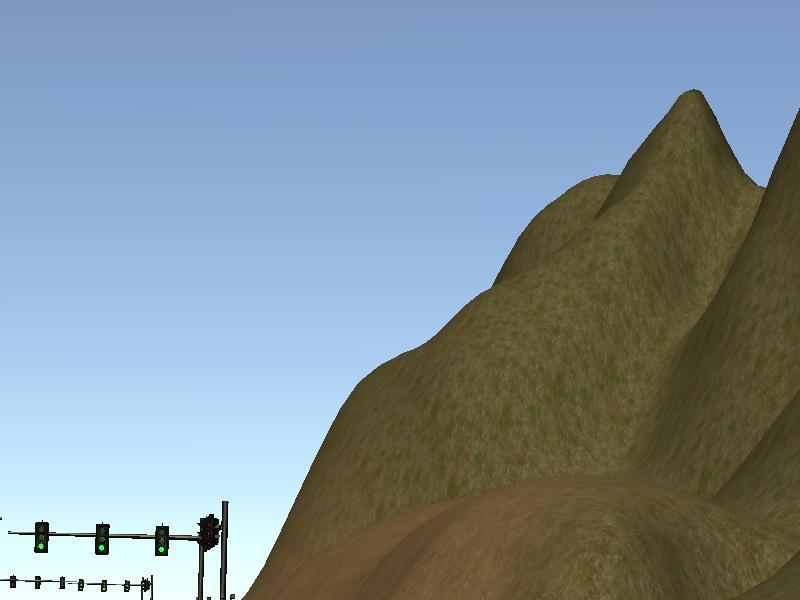Green: (34, 522, 48, 553), (155, 526, 169, 557), (95, 524, 109, 555)
